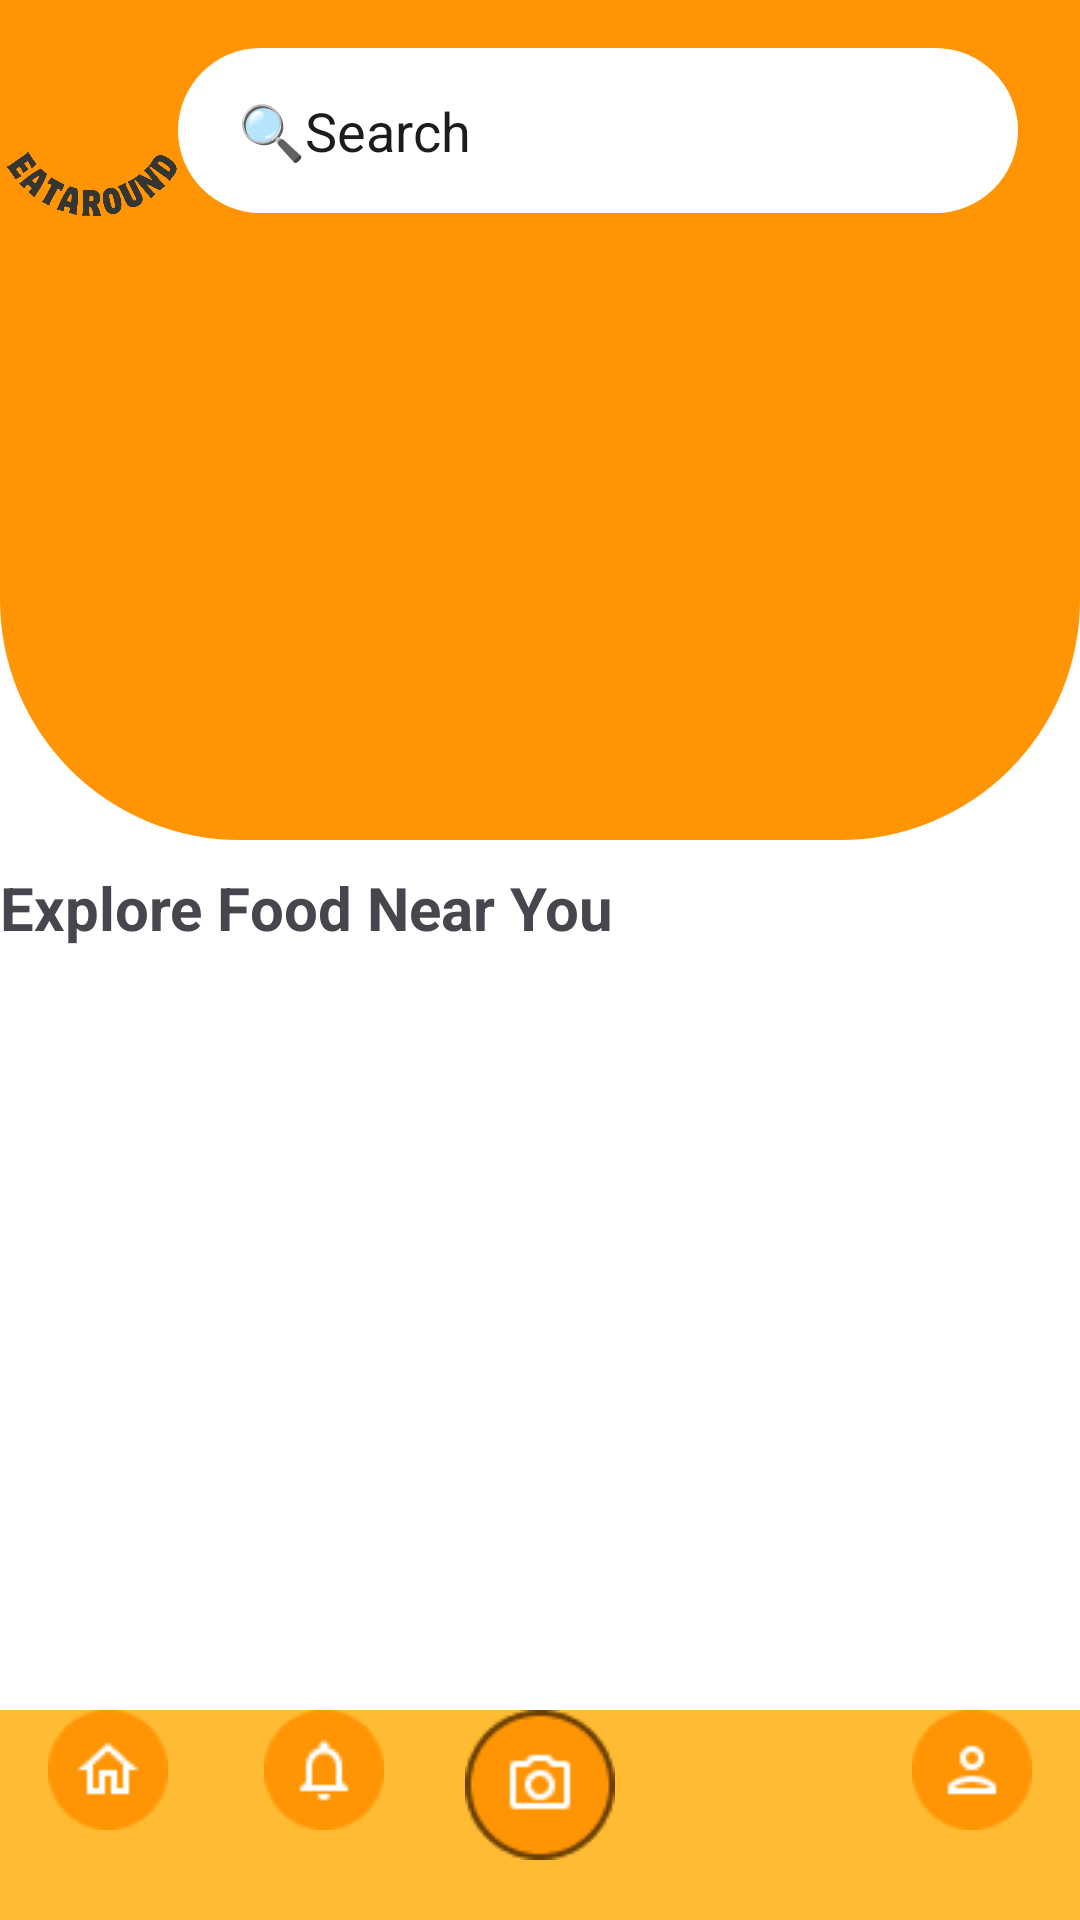

Icon bounding boxes for this 1080x1920 phone screenshot, format (x1, y1, x2, y2):
cam: (465, 1710, 615, 1860)
home: (48, 1710, 168, 1830)
notif: (264, 1710, 384, 1830)
profile: (912, 1710, 1032, 1830)
